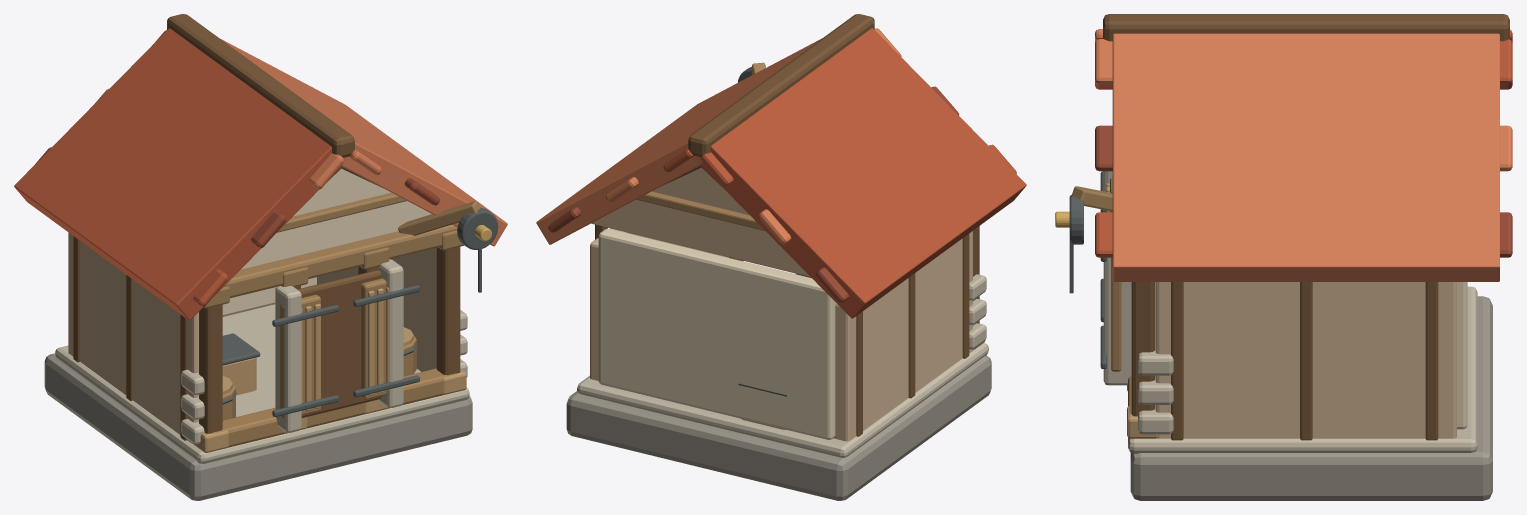
File: warehouse.glb
3 renders of one model, left to right at view 1: azimuth 30°, elevation 25°; view 2: azimuth 150°, elevation 25°; view 3: azimuth 270°, elevation 25°, orthographic. The views are drawn at different scales.
Visible parts, largest first — view 1: TimberWarehouse_Geometry; view 2: TimberWarehouse_Geometry; view 3: TimberWarehouse_Geometry.
Part boxes in pixels (x1=…): TimberWarehouse_Geometry: x1=14, y1=14, x2=507, y2=500; TimberWarehouse_Geometry: x1=536, y1=14, x2=1026, y2=500; TimberWarehouse_Geometry: x1=1055, y1=14, x2=1512, y2=500.
Size of the model in its own units: 2.54 by 2.5 by 2.55.
